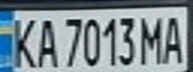0: (81, 14, 103, 68)
1: (100, 14, 121, 66)
3: (115, 12, 139, 65)
7: (60, 13, 81, 69)
A: (157, 11, 190, 64), (30, 13, 60, 69)
K: (6, 14, 39, 70)
M: (136, 11, 166, 65)
